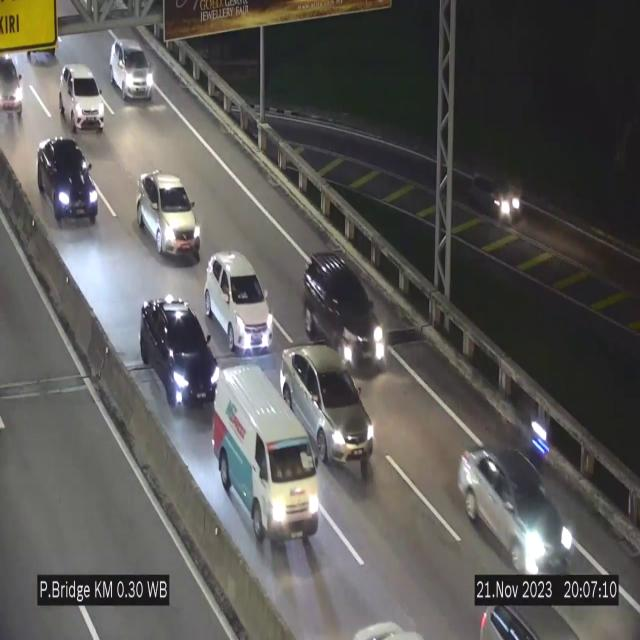Car: (210, 359, 322, 549), (454, 447, 572, 572), (286, 342, 370, 475), (308, 256, 388, 380), (140, 296, 216, 411), (32, 128, 112, 232), (205, 252, 273, 354), (476, 584, 586, 640), (137, 172, 201, 257), (465, 162, 528, 228), (60, 64, 104, 130), (110, 40, 154, 100), (0, 50, 28, 128), (520, 401, 549, 476)
